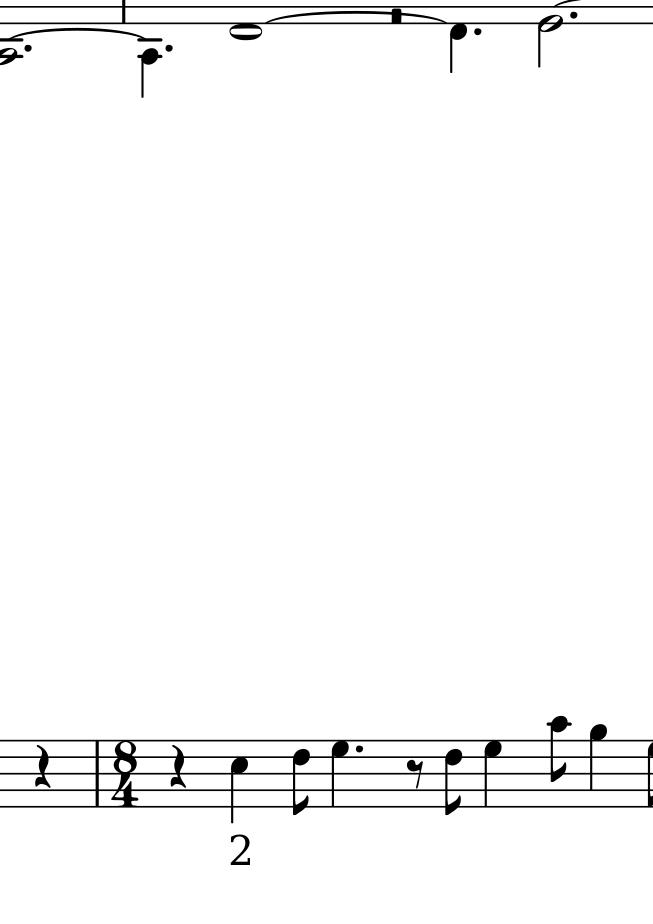2: (227, 832, 253, 864)
4: (110, 774, 140, 807)
4_5: (228, 739, 250, 824)
4_7: (329, 739, 351, 813), (482, 738, 505, 808)
4_9: (587, 722, 608, 808)
8: (112, 738, 139, 775)
8_10: (547, 716, 572, 808)
8_6: (441, 738, 464, 820), (288, 740, 312, 816)
Rests4: (166, 743, 187, 791), (32, 744, 51, 790)
Rests8: (405, 758, 426, 793)
Single_barline: (87, 739, 105, 806)
Slur: (267, 10, 452, 23), (9, 31, 143, 38)
TimeSig: (111, 740, 140, 809)
dot: (163, 43, 175, 54), (471, 25, 483, 36), (567, 10, 579, 20), (22, 43, 33, 53), (355, 744, 364, 755)
